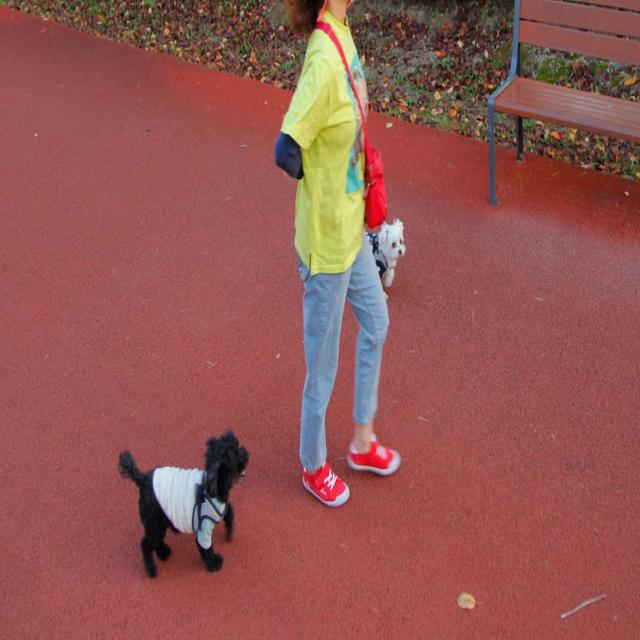Dog: (369, 220, 406, 288)
Unleashed_Dog: (119, 425, 329, 577)
